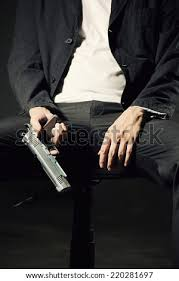gun: (21, 112, 80, 198)
